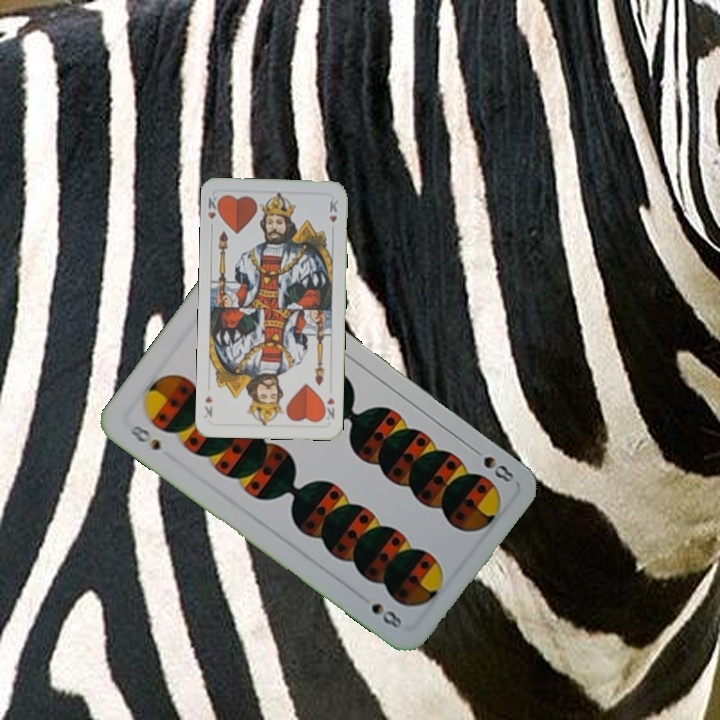HK: (204, 193, 223, 233), (319, 393, 337, 422)
S8: (466, 442, 517, 486), (125, 419, 164, 454)
